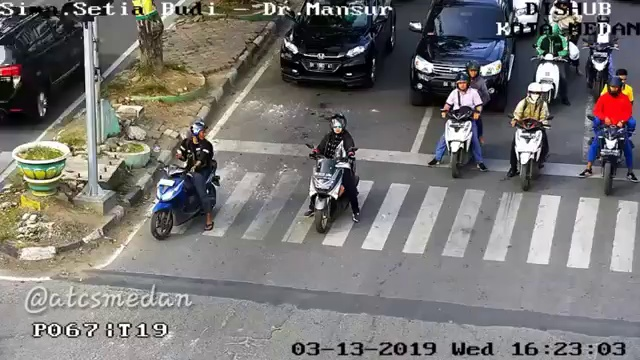car: (415, 1, 517, 113), (277, 1, 400, 91), (1, 5, 90, 120)
motorbike: (156, 122, 225, 244), (307, 114, 367, 234), (591, 64, 636, 201), (442, 63, 489, 180), (512, 82, 549, 190), (536, 22, 570, 114), (587, 15, 617, 106)
